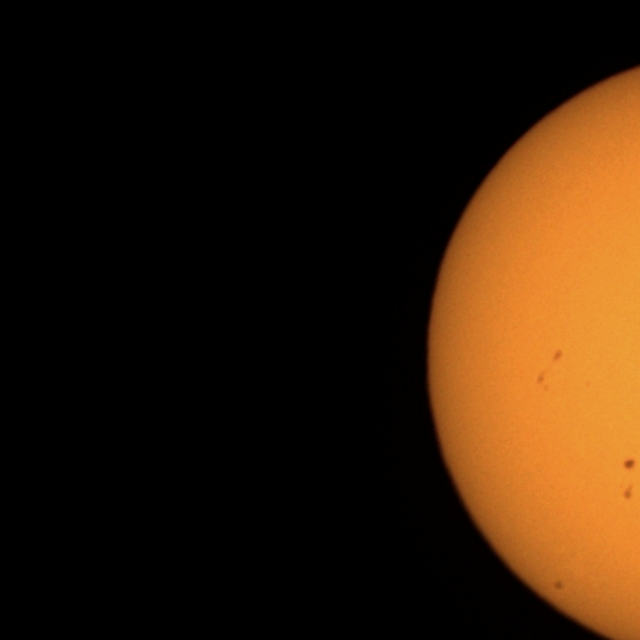sunspot: (535, 370, 550, 392), (622, 484, 635, 502), (622, 457, 638, 471), (552, 578, 565, 592), (552, 348, 564, 363)
